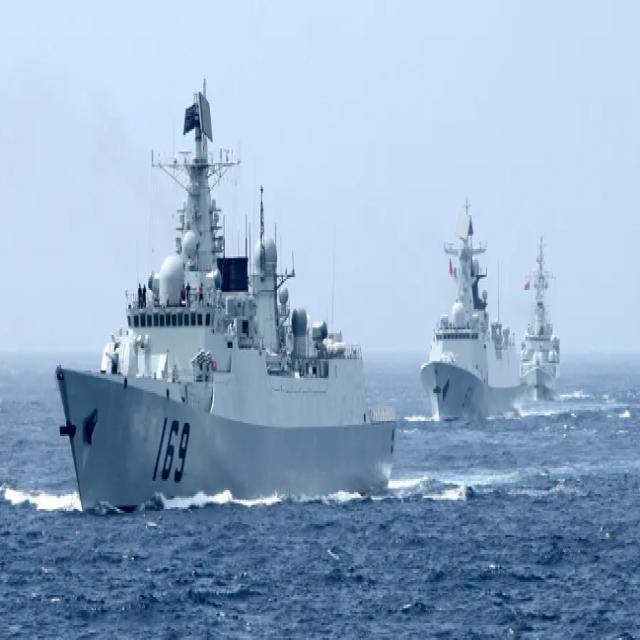navalvessels: (50, 70, 400, 504), (415, 197, 532, 418), (518, 214, 564, 406)
